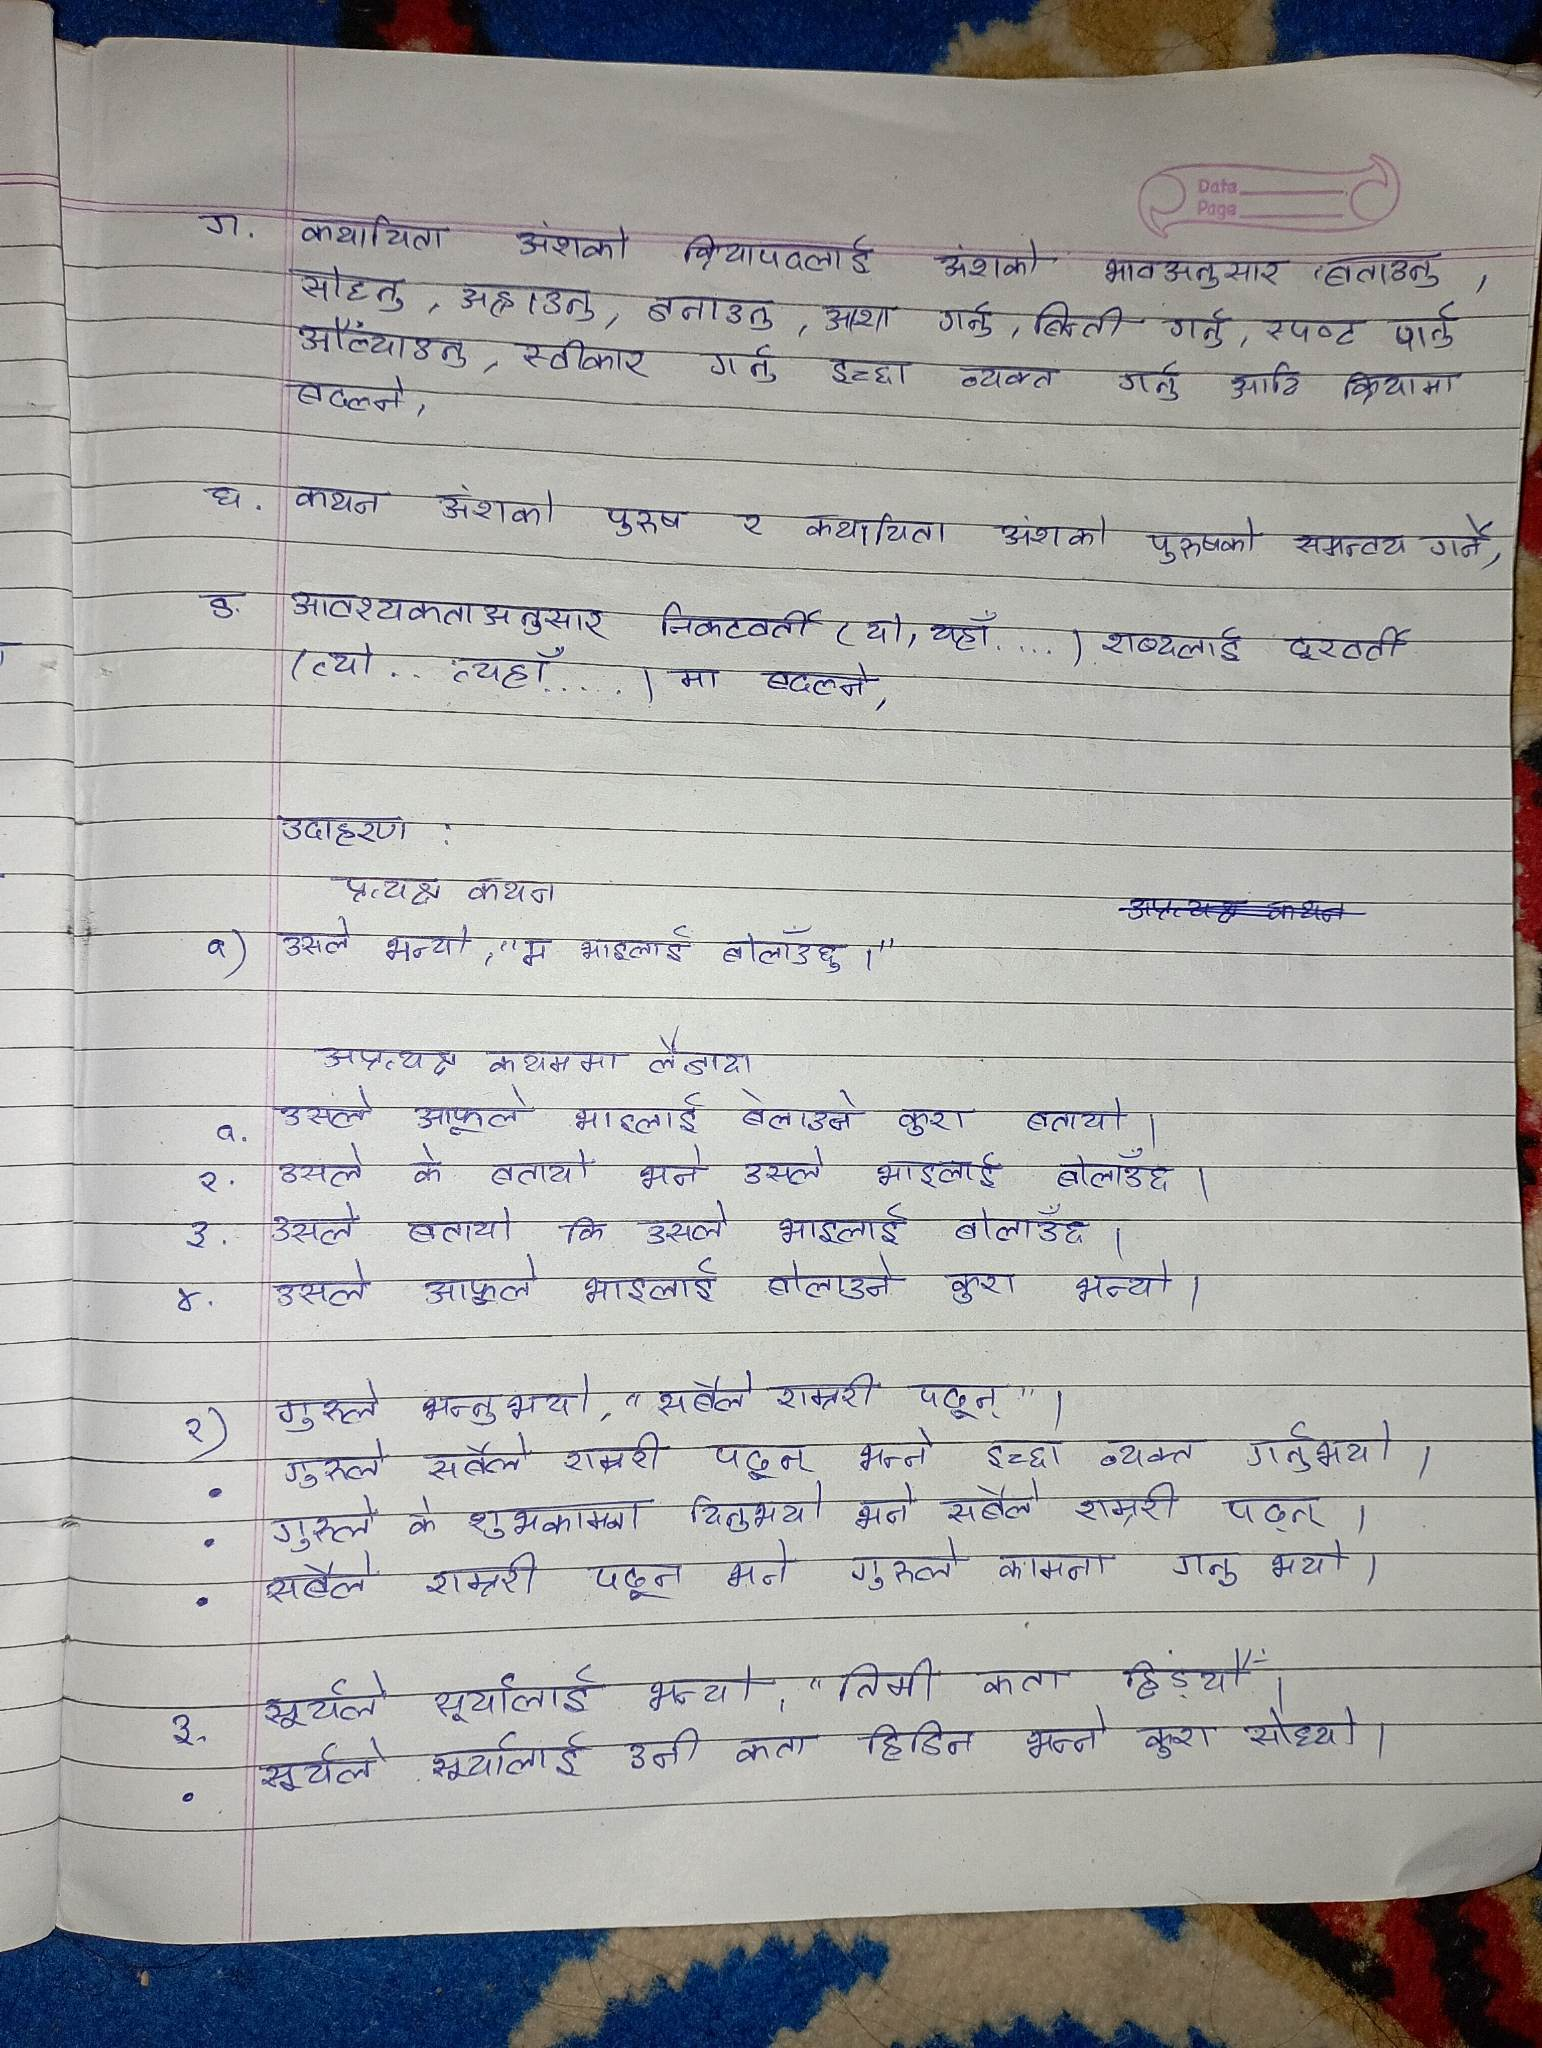text: (287, 584, 612, 638), (1233, 1405, 1403, 1477), (620, 1659, 786, 1721), (429, 1727, 594, 1787), (679, 232, 878, 280), (428, 1672, 611, 1723), (293, 316, 475, 366), (653, 597, 828, 649), (1106, 1646, 1273, 1700), (418, 1379, 599, 1426), (1242, 1702, 1367, 1766), (295, 207, 444, 261), (470, 1499, 651, 1543), (800, 504, 952, 555), (833, 1646, 954, 1711), (436, 479, 570, 537), (716, 924, 850, 983), (758, 1255, 917, 1303), (731, 1094, 876, 1146), (1088, 622, 1247, 669), (1019, 1705, 1134, 1770), (441, 641, 567, 699), (1139, 513, 1265, 571), (254, 1671, 387, 1726), (505, 214, 646, 266), (569, 1268, 735, 1311), (572, 921, 693, 979), (418, 1557, 569, 1604), (842, 1538, 967, 1595), (774, 1203, 922, 1250), (510, 332, 648, 382), (991, 1543, 1124, 1595), (1276, 620, 1412, 670), (952, 1203, 1092, 1251), (246, 1745, 389, 1792), (410, 1086, 541, 1137), (266, 1375, 392, 1426), (1100, 256, 1281, 291), (990, 507, 1114, 559), (685, 1486, 831, 1530), (413, 1260, 539, 1310), (269, 1256, 376, 1315), (266, 809, 410, 852), (646, 1368, 760, 1421), (479, 1039, 628, 1080), (1314, 248, 1442, 295), (308, 1041, 462, 1080), (277, 372, 408, 418), (402, 1206, 530, 1251), (258, 1557, 369, 1609), (288, 264, 411, 311), (1220, 1486, 1343, 1533), (569, 1098, 705, 1140), (416, 1434, 538, 1481), (1048, 1153, 1181, 1195), (1335, 363, 1477, 402), (925, 238, 1046, 283), (760, 661, 873, 709), (269, 1501, 382, 1549), (709, 1433, 818, 1483), (855, 1718, 990, 1758), (646, 1035, 758, 1083), (849, 1425, 944, 1481), (279, 1449, 402, 1493), (1022, 1094, 1135, 1141), (455, 278, 598, 316), (585, 1556, 696, 1603), (1067, 1481, 1182, 1527), (630, 1201, 727, 1255), (1071, 1263, 1181, 1310), (875, 1153, 1007, 1192), (373, 923, 478, 971), (643, 293, 774, 332), (559, 1433, 675, 1477), (769, 1368, 873, 1417), (973, 1658, 1080, 1705), (457, 869, 572, 911), (939, 1483, 1046, 1527), (1097, 1426, 1199, 1472), (1291, 528, 1409, 567), (719, 1541, 802, 1596), (909, 1376, 1016, 1418), (1265, 1541, 1361, 1588), (481, 1154, 599, 1192), (601, 497, 690, 546), (274, 1203, 373, 1247), (1421, 510, 1497, 567), (1263, 312, 1365, 355), (926, 607, 1001, 664), (1029, 300, 1127, 342), (739, 1149, 837, 1192), (952, 356, 1058, 395), (277, 1088, 377, 1128), (339, 868, 442, 907), (272, 1145, 368, 1187), (1106, 358, 1191, 405), (1140, 1718, 1229, 1761), (695, 342, 782, 385), (1388, 306, 1464, 356), (275, 918, 360, 963), (293, 479, 387, 520), (1156, 303, 1231, 353), (1169, 1543, 1246, 1591), (731, 1727, 811, 1773), (1228, 358, 1306, 405), (941, 1268, 1035, 1307), (624, 1727, 701, 1774), (891, 1099, 975, 1141), (635, 1146, 713, 1192), (983, 1436, 1071, 1475), (852, 1483, 918, 1533), (190, 202, 254, 253), (820, 296, 894, 338), (824, 355, 907, 392), (309, 639, 374, 683), (936, 300, 995, 342), (202, 479, 266, 518), (402, 1141, 449, 1192), (168, 1697, 202, 1760), (669, 665, 731, 698), (862, 607, 905, 649), (183, 1405, 215, 1460), (557, 1214, 609, 1248), (515, 928, 552, 975), (407, 1498, 447, 1540), (202, 580, 233, 630), (735, 504, 769, 546), (170, 1277, 202, 1321), (196, 929, 233, 962), (215, 1117, 245, 1148)
